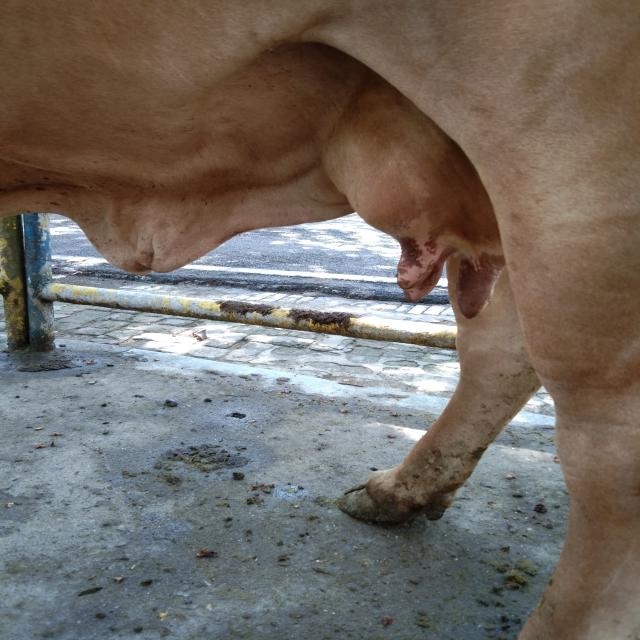Hoof: (336, 469, 454, 526)
